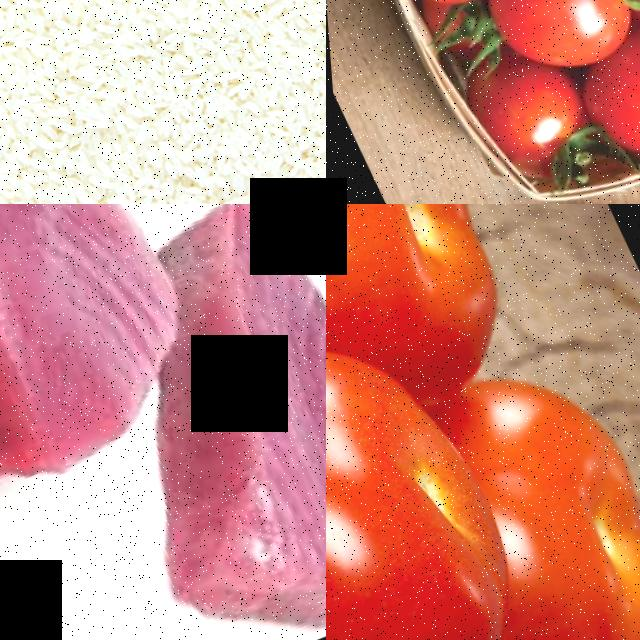tomato: (326, 288, 573, 640), (326, 204, 555, 471), (459, 0, 640, 90), (557, 11, 640, 180)
tuna: (26, 204, 326, 640), (0, 204, 235, 535)
white rice: (0, 0, 326, 204)
